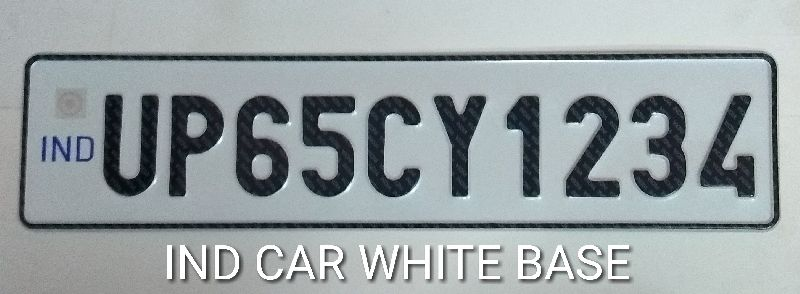number_plate: (20, 51, 779, 230)
